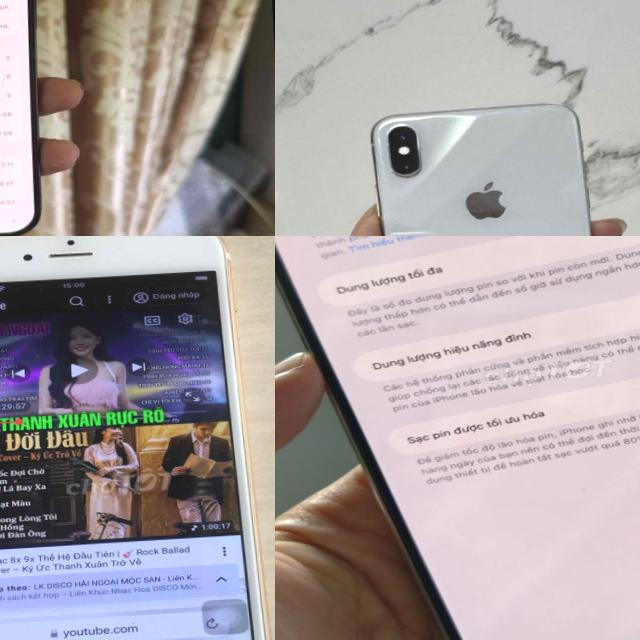gen_14: (275, 236, 640, 640)
gen_6: (0, 236, 268, 640)
gen_x_xs: (359, 92, 615, 236)
